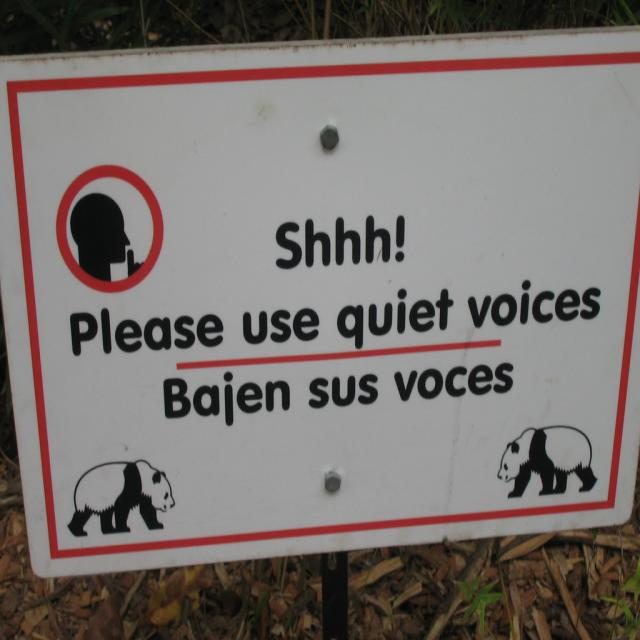panda: (65, 454, 177, 540), (500, 421, 602, 498)
